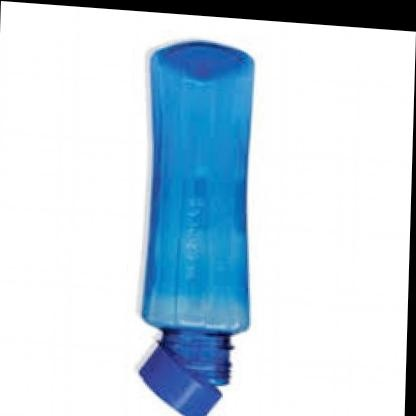trash: (140, 41, 253, 415)
